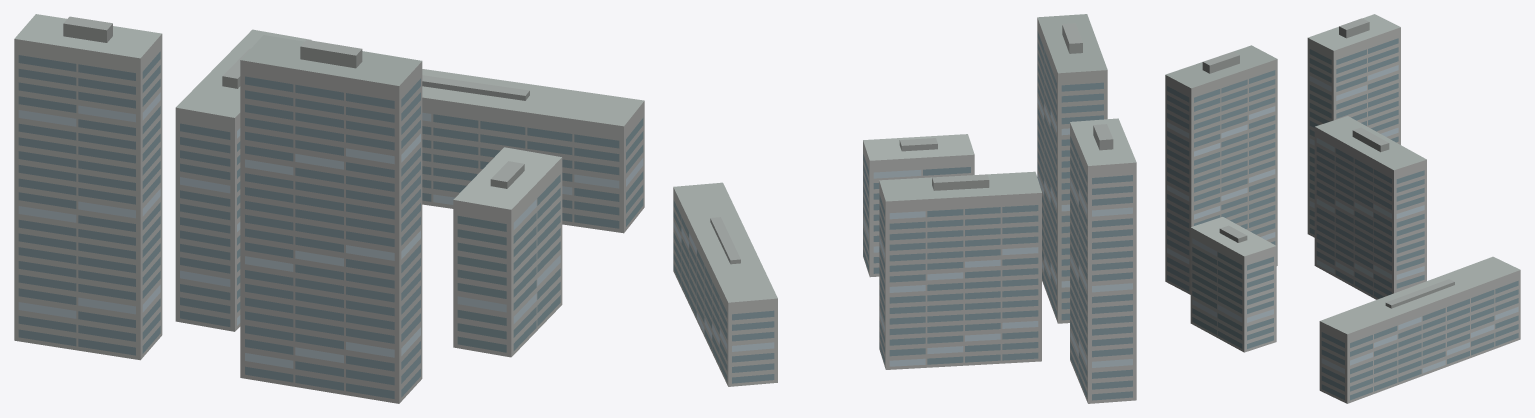
Rendered from apt-a13583301.glb.
The picture shows the model from 3 angles, left to right: view 1: azimuth 30°, elevation 25°; view 2: azimuth 150°, elevation 25°; view 3: azimuth 270°, elevation 25°; orthographic projection. The views are drawn at different scales.
Parts seen in each view (by area): view 1: apt-a13583301; view 2: apt-a13583301; view 3: apt-a13583301.
Boxes of the visible parts, x1,y1,x2,y2 form: apt-a13583301: [14, 14, 644, 403]; apt-a13583301: [673, 14, 1136, 403]; apt-a13583301: [1165, 14, 1520, 403].
Size of the model in its own units: 120 by 62 by 92.85.
